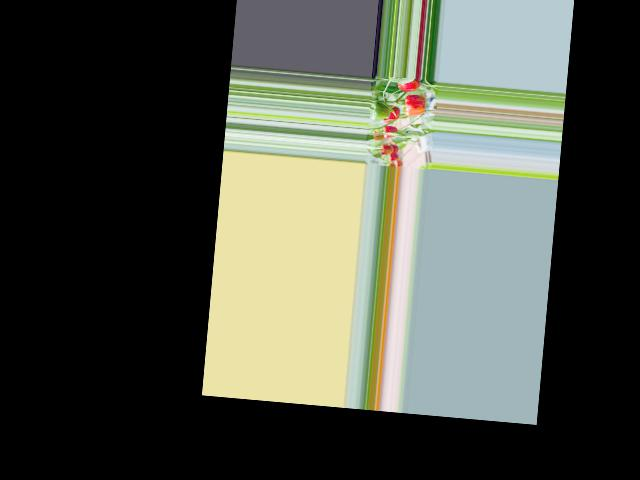bell_pepper: (378, 125, 401, 140)
